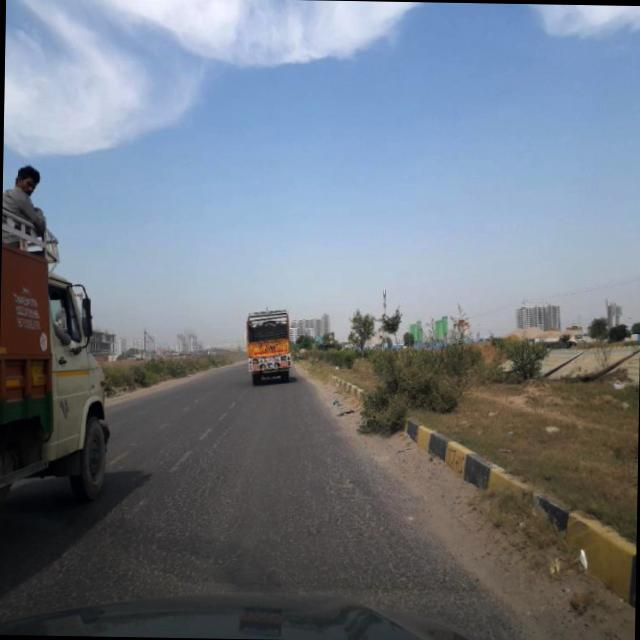crack: (112, 420, 488, 610)
